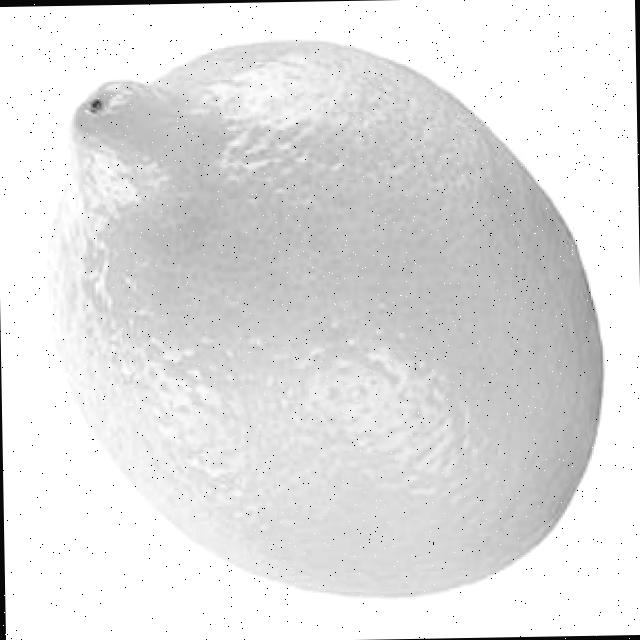Lemon: (40, 29, 610, 602)
